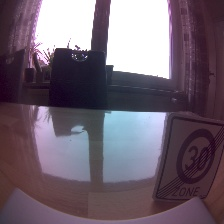dreisiger_zone_ende: (152, 111, 224, 201)
